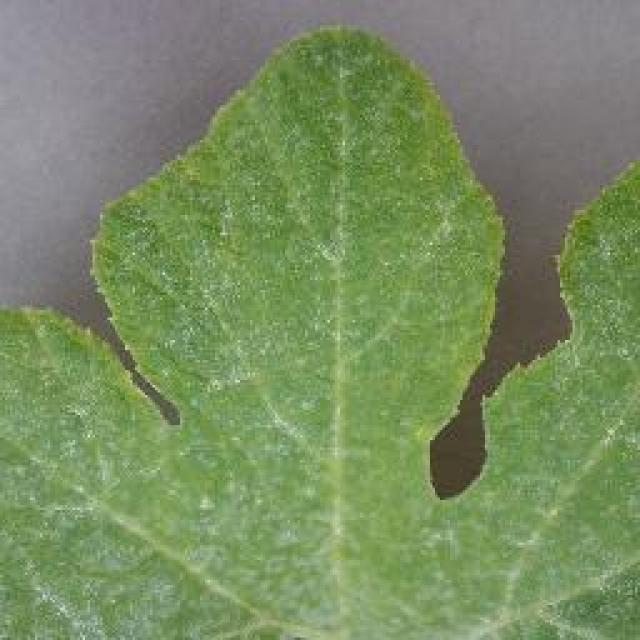Squ_Powdery_mildew: (84, 191, 472, 606)
